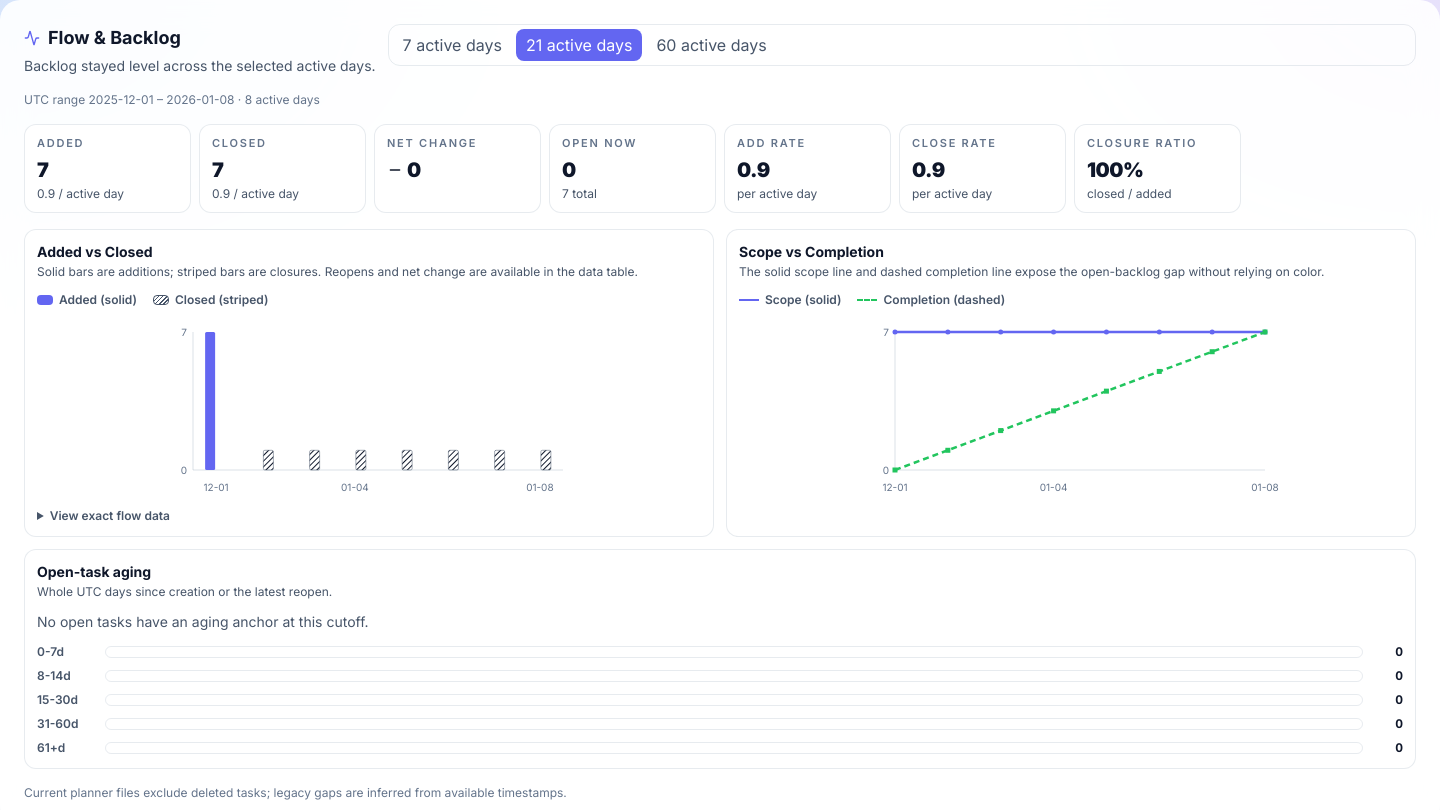
it: FlowBacklogAnalytics › describes positive, zero, and negative net backlog without relying on color
Check: the text "+1" is shown, box [387,158,421,182]
Check: the text "Backlog stayed level across the selected active days." is shown, box [24,56,376,76]
What coordinates should you click on to do the following:
click the button "7 active days"
I would click on:
 (452, 45)
Its box is [393,29,512,61].
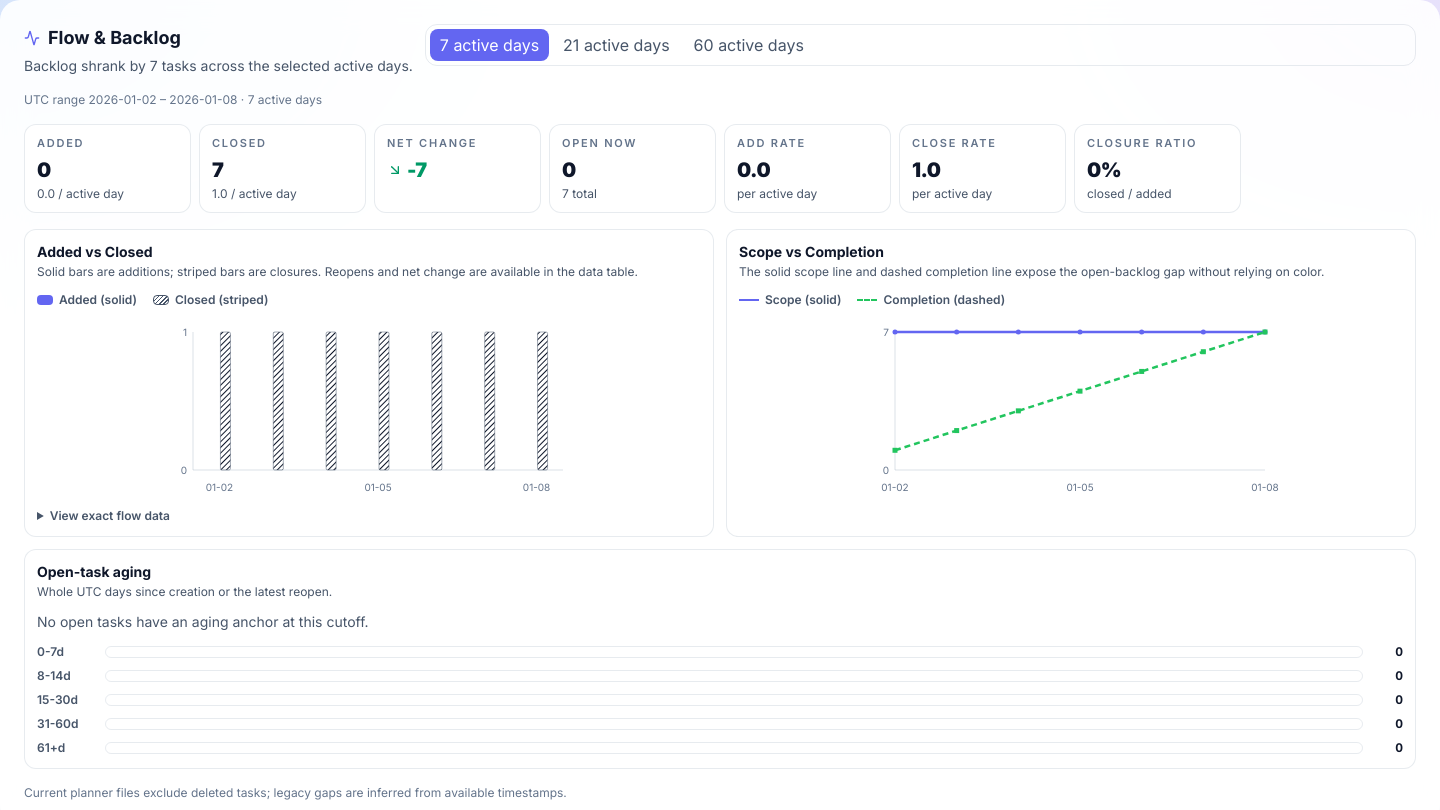
Check: the text "Backlog shrank by 7 tasks across the selected active days." is shown, box [24,56,413,76]
Check: the text "-7" is shown, box [387,158,427,182]
